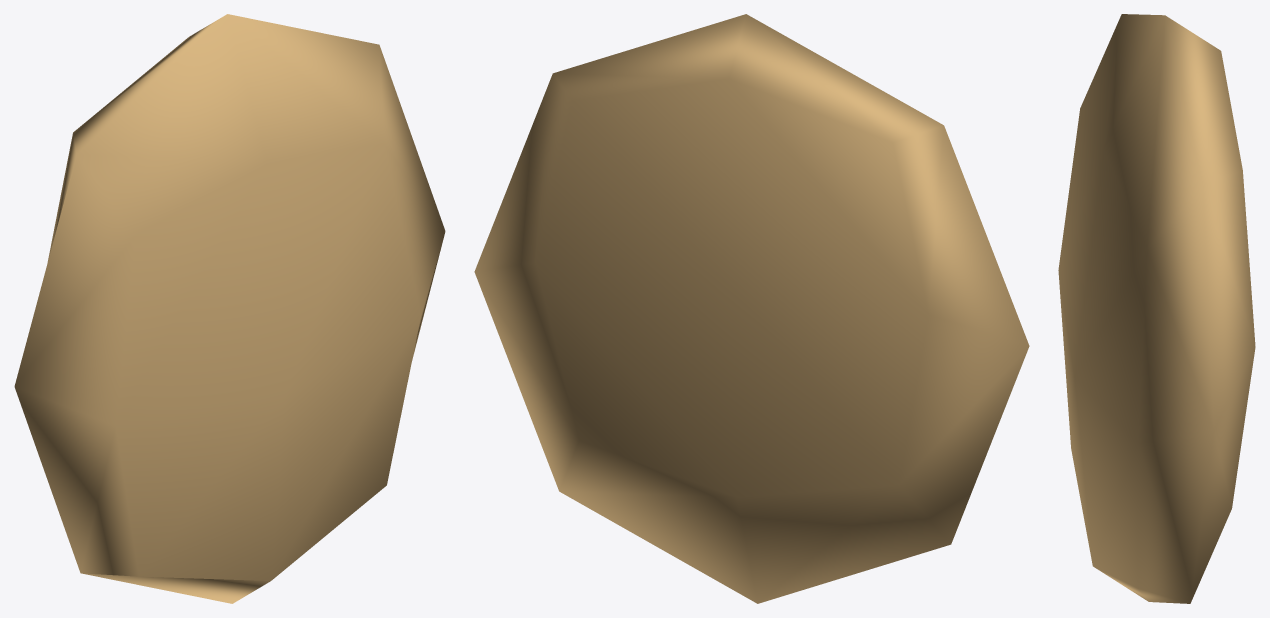
The model's file is claw_T2_left_lower.obj.
The picture shows the model from 3 angles, left to right: view 1: azimuth 30°, elevation 25°; view 2: azimuth 150°, elevation 25°; view 3: azimuth 270°, elevation 25°; orthographic projection. The views are drawn at different scales.
Bounding box in the file's own units: 0.00314 × 0.00359 × 0.00109.
